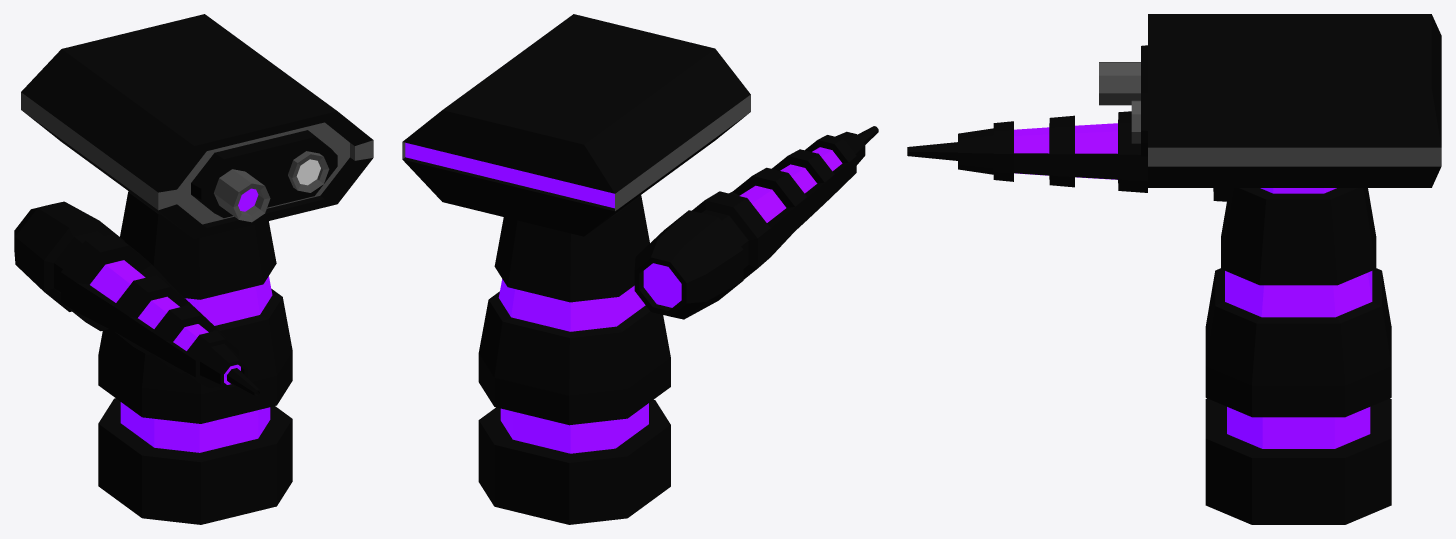
The model's file is SniperEnemy.fbx.
3 views of the same model, side by side, from view 1: azimuth 30°, elevation 25°; view 2: azimuth 150°, elevation 25°; view 3: azimuth 270°, elevation 25° (orthographic). The views are drawn at different scales.
Parts seen in each view (by area): view 1: Head, Body, Gun; view 2: Body, Head, Gun; view 3: Body, Head, Gun.
Boxes of the visible parts, <box> form: Head: <box>21,14,373,238</box>; Body: <box>98,191,292,524</box>; Gun: <box>14,201,261,397</box>; Body: <box>478,195,670,524</box>; Head: <box>402,14,750,236</box>; Gun: <box>634,126,878,319</box>; Body: <box>1205,188,1391,524</box>; Head: <box>1099,14,1441,187</box>; Gun: <box>907,111,1229,201</box>.
Size of the model in its own units: 143 by 207 by 231.
